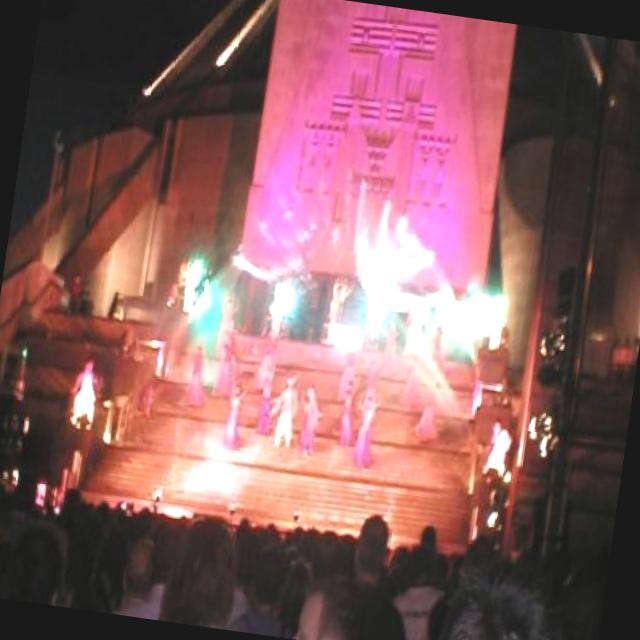Person: (0, 268, 638, 640), (0, 447, 611, 640), (178, 255, 460, 478), (67, 349, 106, 426)
